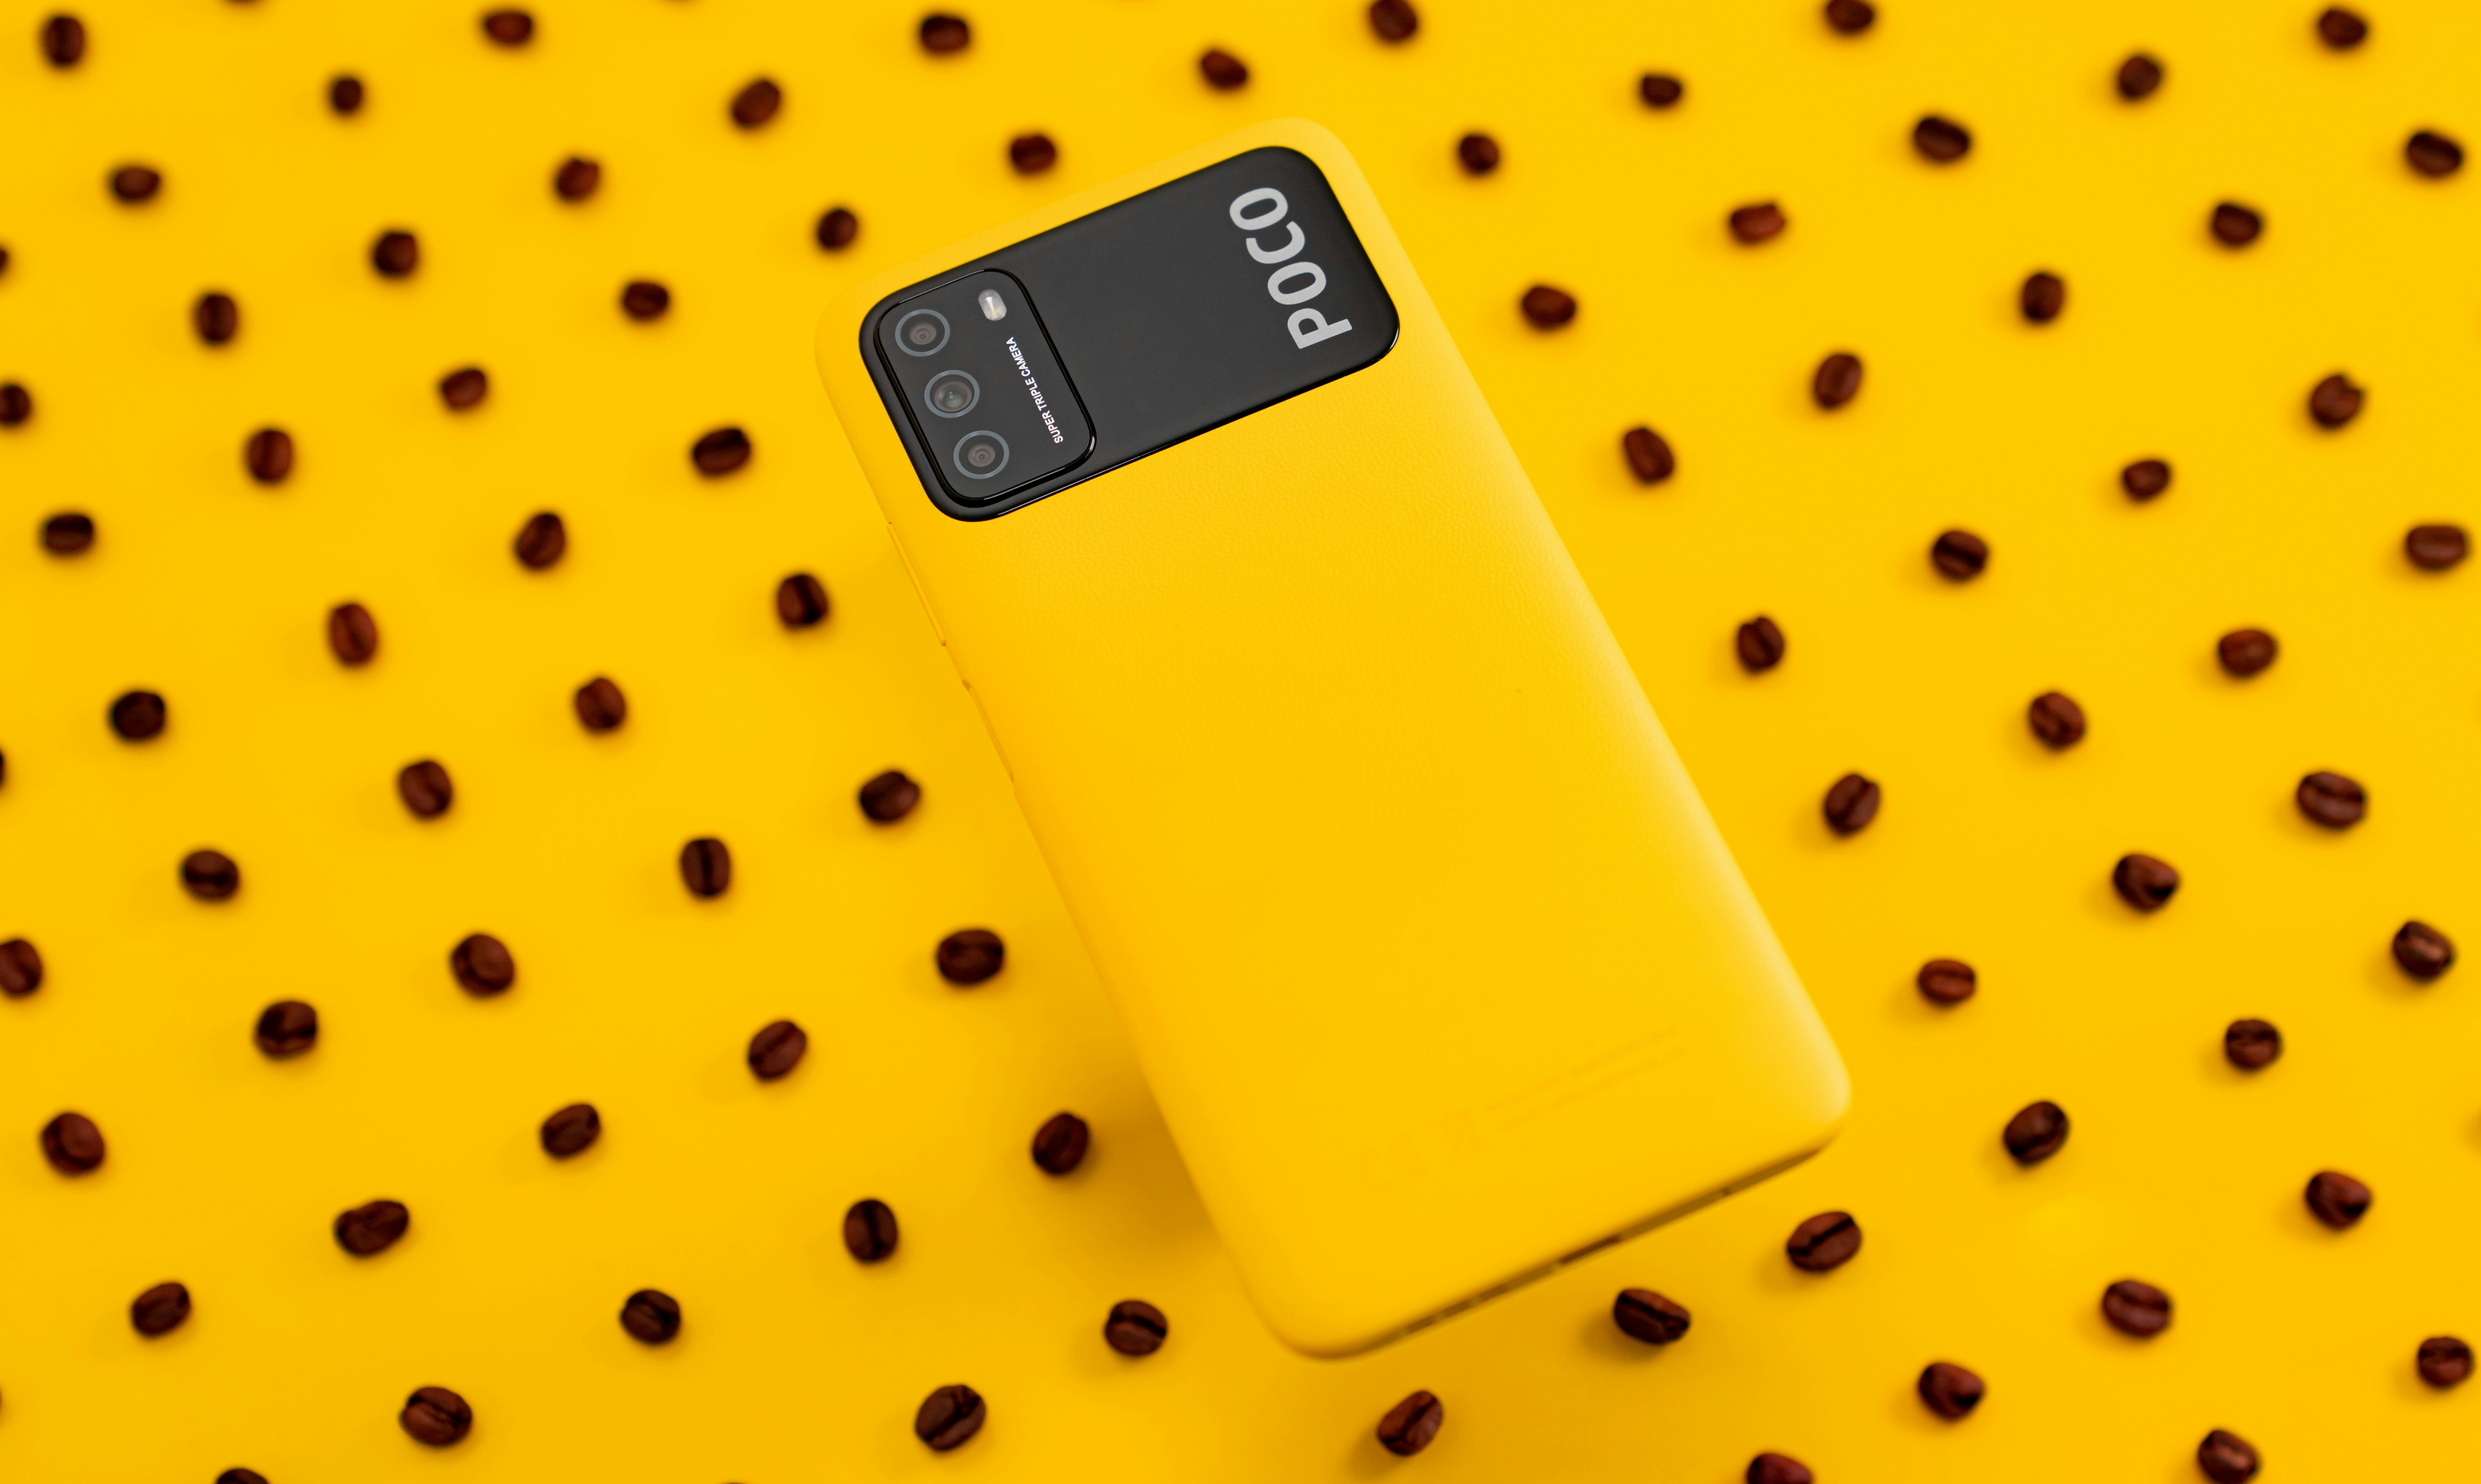p6: (802, 108, 1912, 1484)
